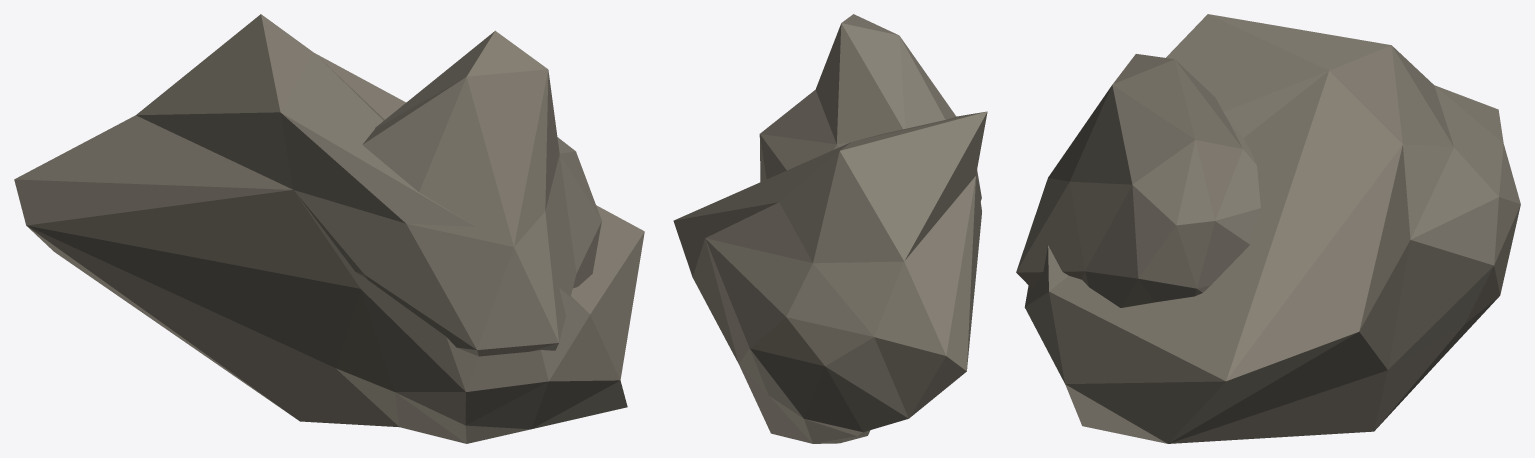
File: StoneCollection1.glb
3 renders of one model, left to right at view 1: azimuth 30°, elevation 25°; view 2: azimuth 150°, elevation 25°; view 3: azimuth 270°, elevation 25°, orthographic. The views are drawn at different scales.
Visible parts, largest first — view 1: Medium, Small; view 2: Medium, Small; view 3: Medium, Small.
Part boxes in pixels (x1,y1,x2,y2): Medium: (14,14,644,443); Small: (294,30,601,356); Medium: (673,111,987,443); Small: (759,14,981,201); Medium: (1024,14,1520,443); Small: (1016,54,1260,307).
Bounding box in the file's own units: 4.14 × 3.38 × 4.04.
Materials: 1 (1 with a texture image).
